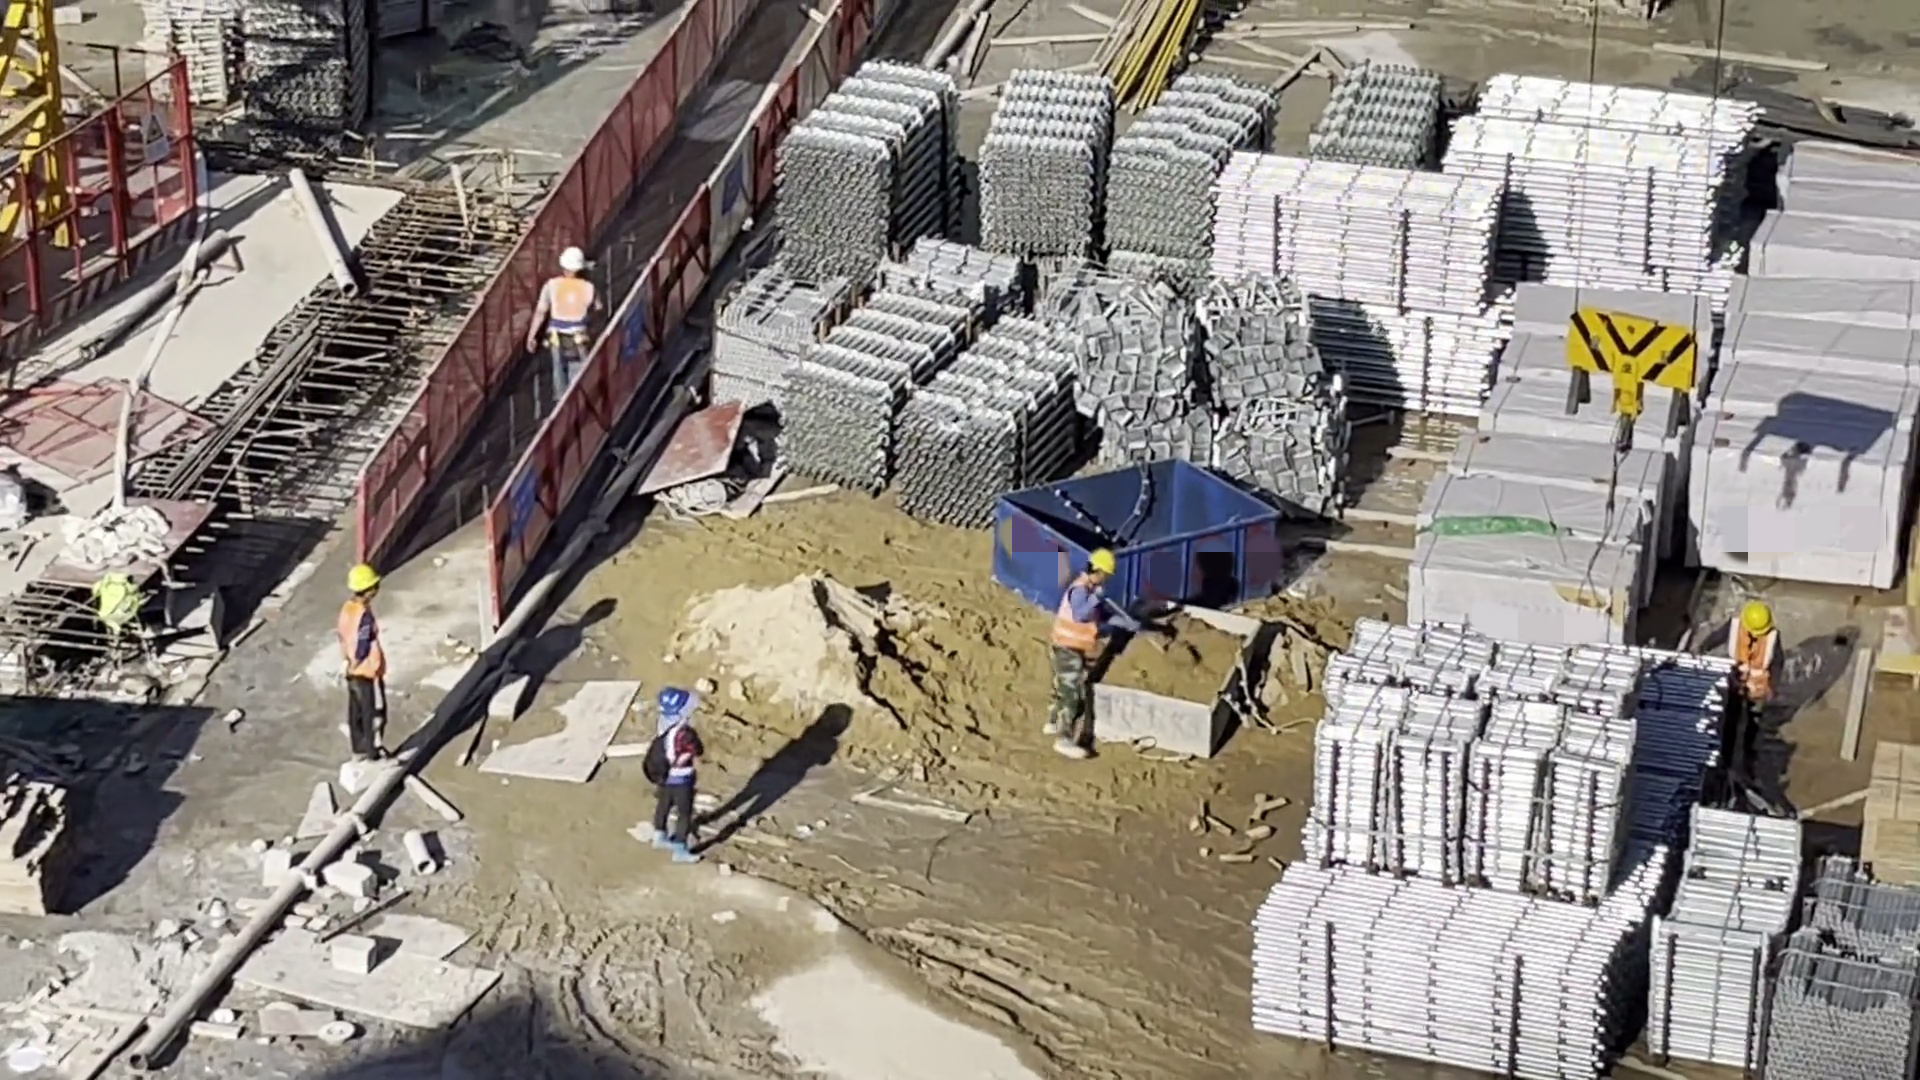fence: (349, 1, 862, 618)
helmet: (1716, 593, 1783, 656), (1075, 539, 1127, 587), (350, 546, 389, 606), (552, 240, 604, 285), (649, 678, 692, 713)
hook: (1557, 302, 1727, 449)
hopper: (1014, 433, 1257, 620), (1133, 604, 1252, 777)
person: (315, 564, 411, 767), (1045, 539, 1126, 778), (640, 691, 708, 859), (533, 245, 609, 392), (1715, 587, 1784, 701)
scaffold: (786, 44, 1028, 516), (1314, 608, 1702, 868), (1237, 859, 1664, 1080), (1208, 162, 1508, 425), (1448, 57, 1765, 297), (1654, 798, 1920, 1080), (956, 66, 1250, 280), (1303, 59, 1439, 194)
vest: (1727, 617, 1784, 691), (542, 283, 603, 340), (650, 721, 698, 785), (1065, 588, 1106, 661), (337, 617, 384, 678)
